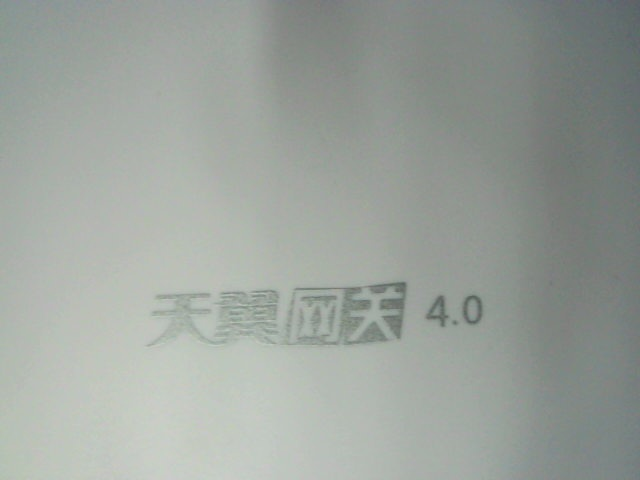BM_TianYiWangGuan: (142, 276, 489, 349)
